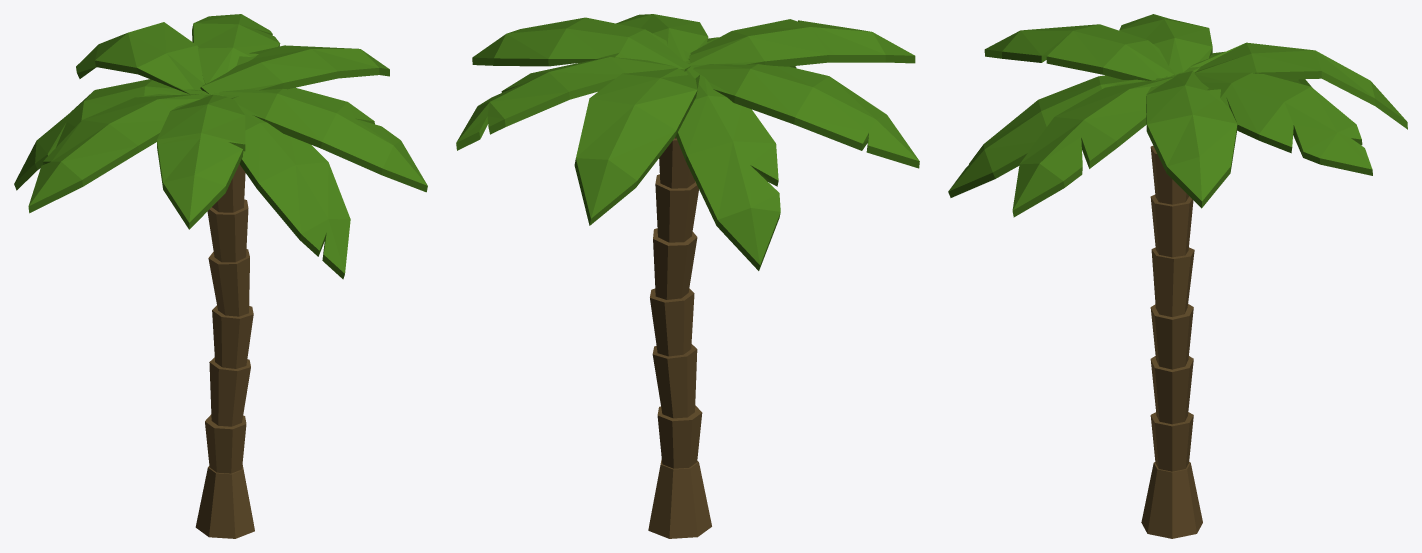
The model's file is Palme3.fbx.
3 renders of one model, left to right at view 1: azimuth 30°, elevation 25°; view 2: azimuth 150°, elevation 25°; view 3: azimuth 270°, elevation 25°, orthographic. The views are drawn at different scales.
Parts seen in each view (by area): view 1: Blatt_1, Stamm_1; view 2: Blatt_1, Stamm_1; view 3: Blatt_1, Stamm_1.
Boxes of the visible parts, x1,y1,x2,y2 form: Blatt_1: (14, 14, 427, 279); Stamm_1: (195, 164, 254, 538); Blatt_1: (456, 14, 919, 270); Stamm_1: (648, 136, 711, 538); Blatt_1: (948, 14, 1407, 217); Stamm_1: (1141, 145, 1202, 538).
Size of the model in its own units: 1481 by 1637 by 1478.
